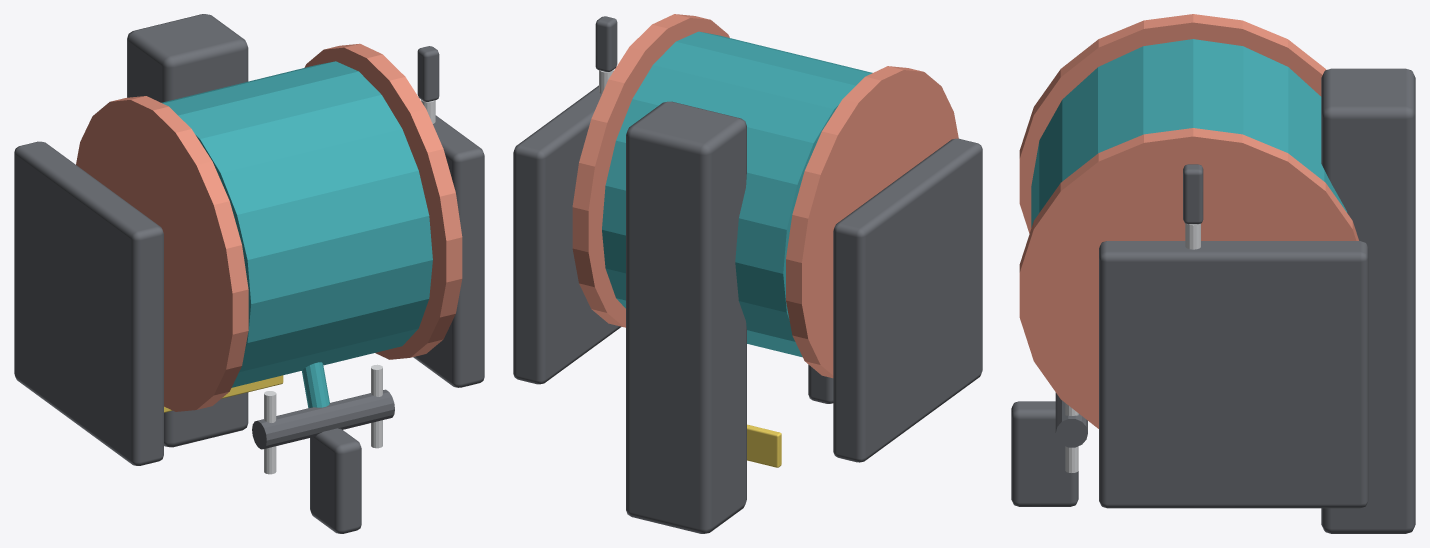
File: public-aquarium-and-marine-centre-hose-reel-27f87427__34186.glb
3 renders of one model, left to right at view 1: azimuth 30°, elevation 25°; view 2: azimuth 150°, elevation 25°; view 3: azimuth 270°, elevation 25°, orthographic. The views are drawn at different scales.
Parts seen in each view (by area): view 1: hose-reel, reel/teal, reel/coral, reel/frame; view 2: hose-reel, reel/coral, reel/teal, reel/frame; view 3: hose-reel, reel/coral, reel/teal, reel/frame.
Part boxes in pixels (bbox=[...]): hose-reel: bbox=[14, 14, 484, 533]; reel/teal: bbox=[161, 61, 432, 387]; reel/coral: bbox=[76, 43, 462, 411]; reel/frame: bbox=[417, 46, 439, 101]; hose-reel: bbox=[513, 85, 982, 533]; reel/coral: bbox=[572, 14, 958, 378]; reel/teal: bbox=[602, 31, 872, 357]; reel/frame: bbox=[595, 16, 617, 71]; hose-reel: bbox=[1011, 68, 1415, 533]; reel/coral: bbox=[1019, 14, 1358, 428]; reel/teal: bbox=[1031, 39, 1347, 227]; reel/frame: bbox=[1183, 164, 1203, 224].
Bounding box in the file's own units: 0.66 × 0.72 × 0.6.
